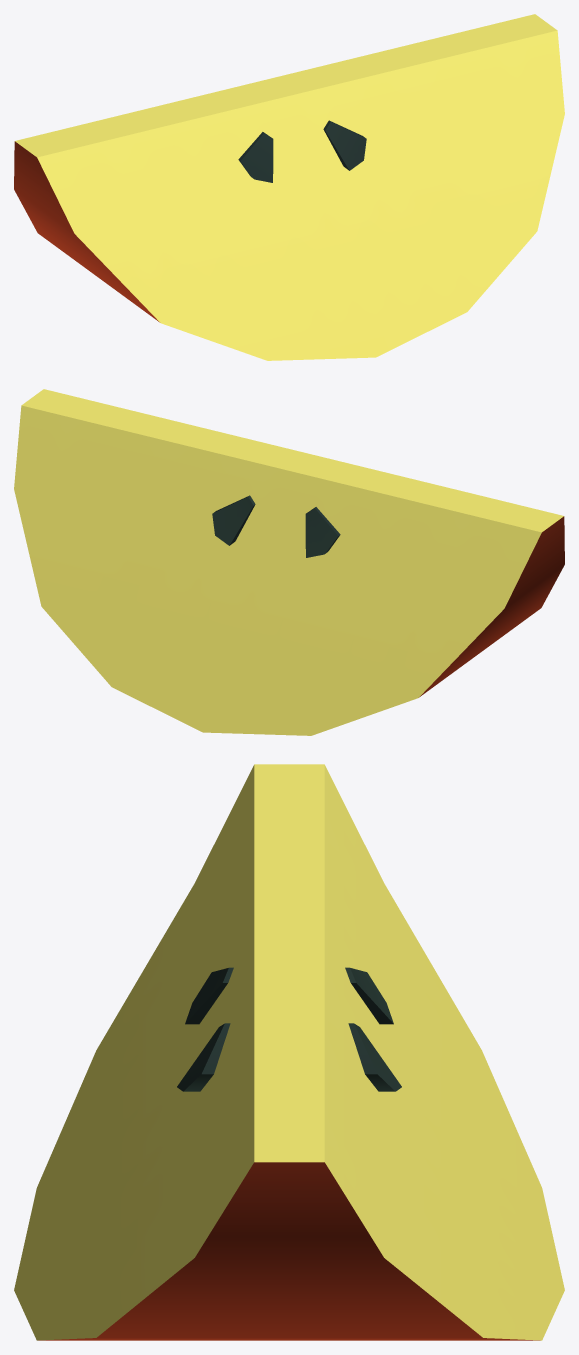
The model's file is apple_slice.fbx.
3 renders of one model, top to bottom at view 1: azimuth 30°, elevation 25°; view 2: azimuth 150°, elevation 25°; view 3: azimuth 270°, elevation 25°, orthographic. The views are drawn at different scales.
Parts seen in each view (by area): view 1: apple_slice; view 2: apple_slice; view 3: apple_slice.
Boxes of the visible parts, bbox=[...] form: apple_slice: bbox=[14, 14, 564, 360]; apple_slice: bbox=[14, 389, 564, 735]; apple_slice: bbox=[14, 764, 564, 1340].
Bounding box in the file's own units: 17.01 × 6.49 × 9.96.
